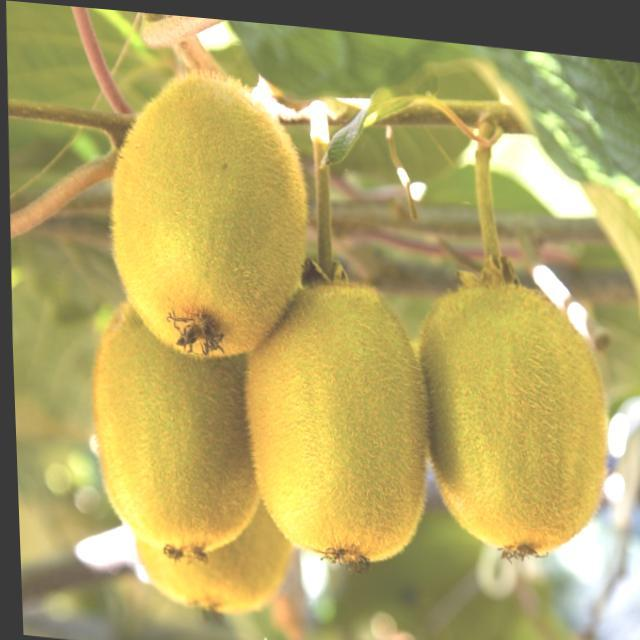kiwi: (103, 64, 313, 363), (236, 267, 431, 575), (408, 265, 611, 558), (125, 322, 298, 624), (86, 280, 268, 566)
